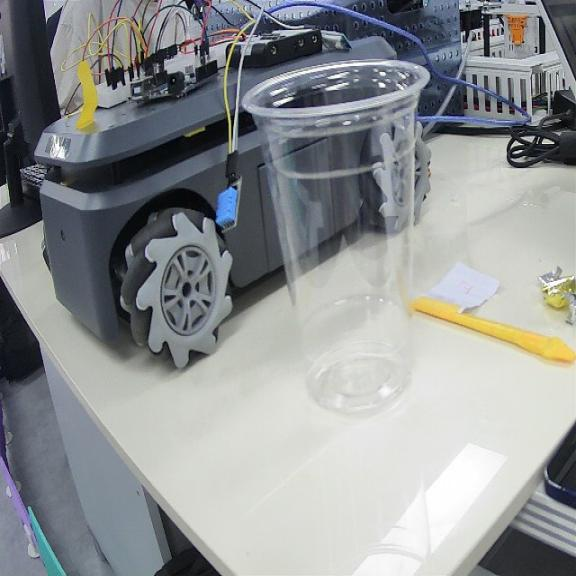Plastik: (243, 60, 429, 412)
